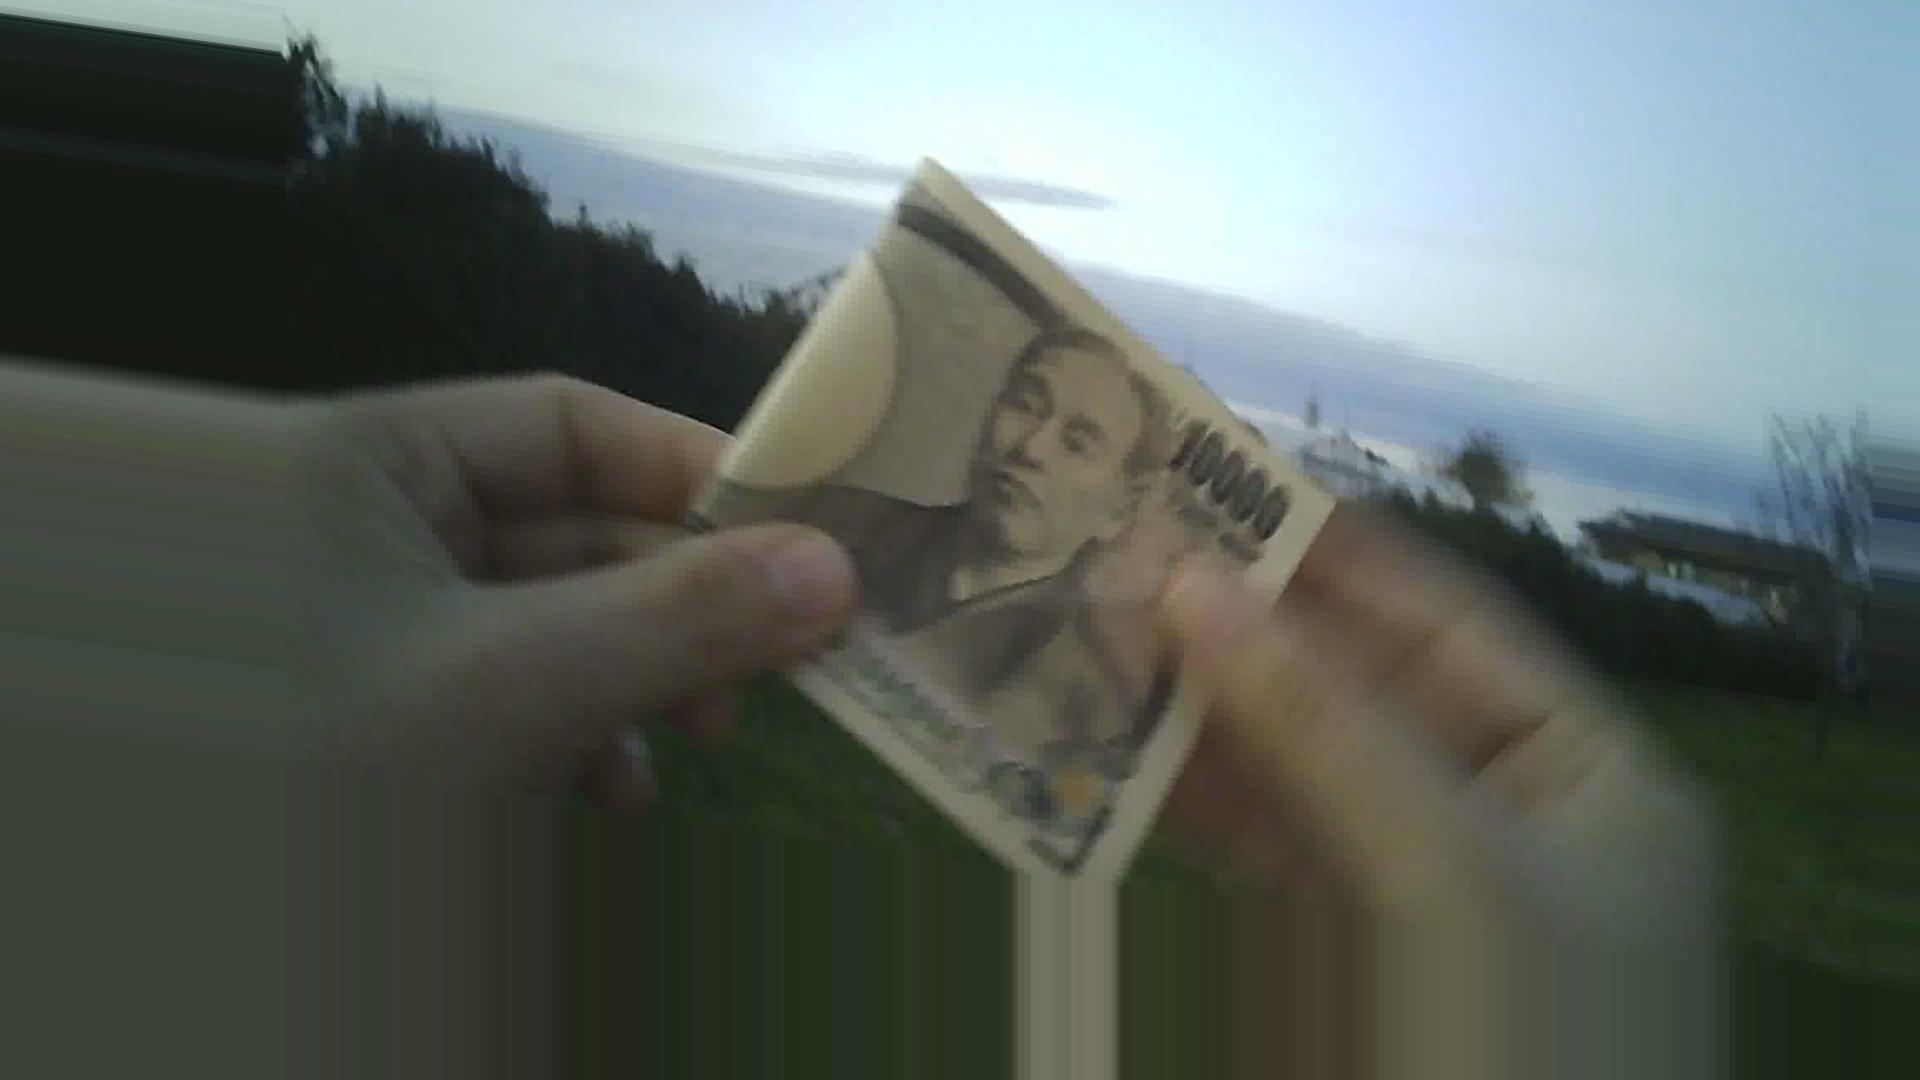10,000 Yen: (646, 146, 1287, 870)
